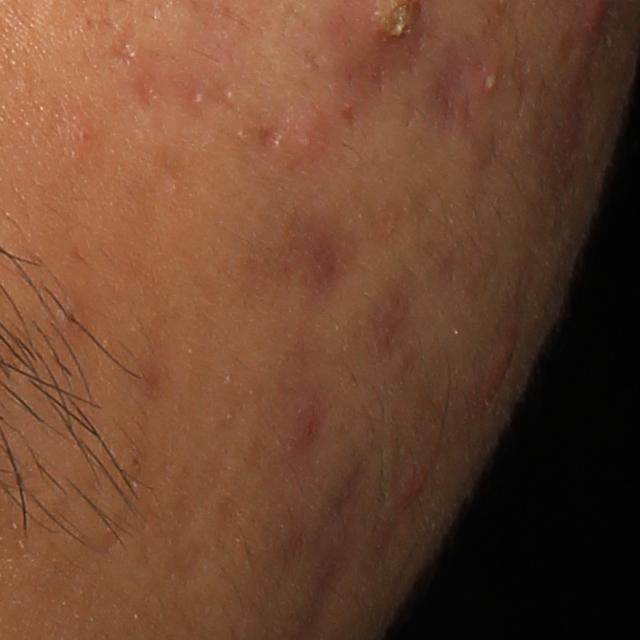atrophic_scar: (308, 464, 362, 631), (436, 31, 491, 119), (250, 108, 288, 161), (134, 72, 162, 117), (109, 29, 141, 63)
papule: (479, 305, 518, 406), (398, 434, 436, 514)
pustule: (477, 65, 503, 97)
